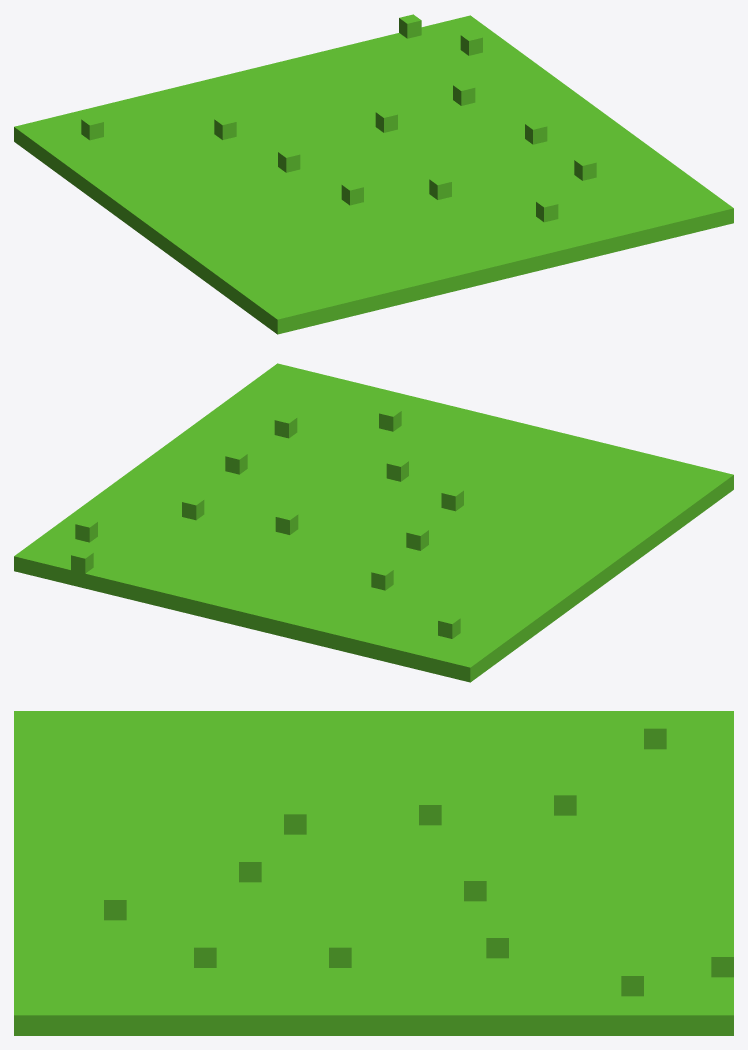
Rendered from env_grass1b.dae.
The picture shows the model from 3 angles, top to bottom: view 1: azimuth 30°, elevation 25°; view 2: azimuth 150°, elevation 25°; view 3: azimuth 270°, elevation 25°; orthographic projection. The views are drawn at different scales.
Visible parts, largest first — view 1: env_grass1b; view 2: env_grass1b; view 3: env_grass1b.
Boxes of the visible parts, x1=… form: env_grass1b: x1=14, y1=14, x2=733, y2=334; env_grass1b: x1=14, y1=363, x2=733, y2=682; env_grass1b: x1=14, y1=711, x2=733, y2=1035.
Size of the model in its own units: 3.2 by 3.2 by 0.2.
